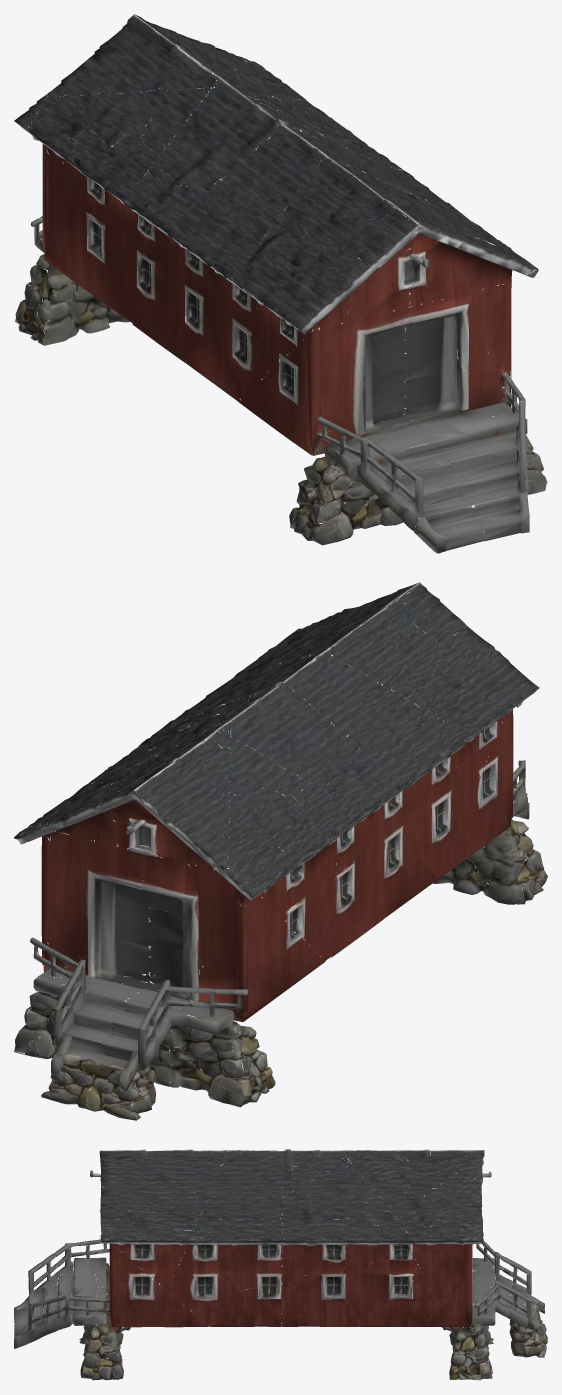
Rendered from bridge.glb.
3 renders of one model, top to bottom at view 1: azimuth 30°, elevation 25°; view 2: azimuth 150°, elevation 25°; view 3: azimuth 270°, elevation 25°, orthographic. The views are drawn at different scales.
Visible parts, largest first — view 1: tripo_node_c777b596-c213-4fa0-a4e6-80cc141570e8; view 2: tripo_node_c777b596-c213-4fa0-a4e6-80cc141570e8; view 3: tripo_node_c777b596-c213-4fa0-a4e6-80cc141570e8.
Part boxes in pixels (x1,y1,x2,y2): tripo_node_c777b596-c213-4fa0-a4e6-80cc141570e8: [14, 14, 547, 553]; tripo_node_c777b596-c213-4fa0-a4e6-80cc141570e8: [14, 582, 547, 1120]; tripo_node_c777b596-c213-4fa0-a4e6-80cc141570e8: [14, 1149, 547, 1380].
Size of the model in its own units: 0.3542 by 0.3991 by 1.
Materials: 1 (1 with a texture image).
